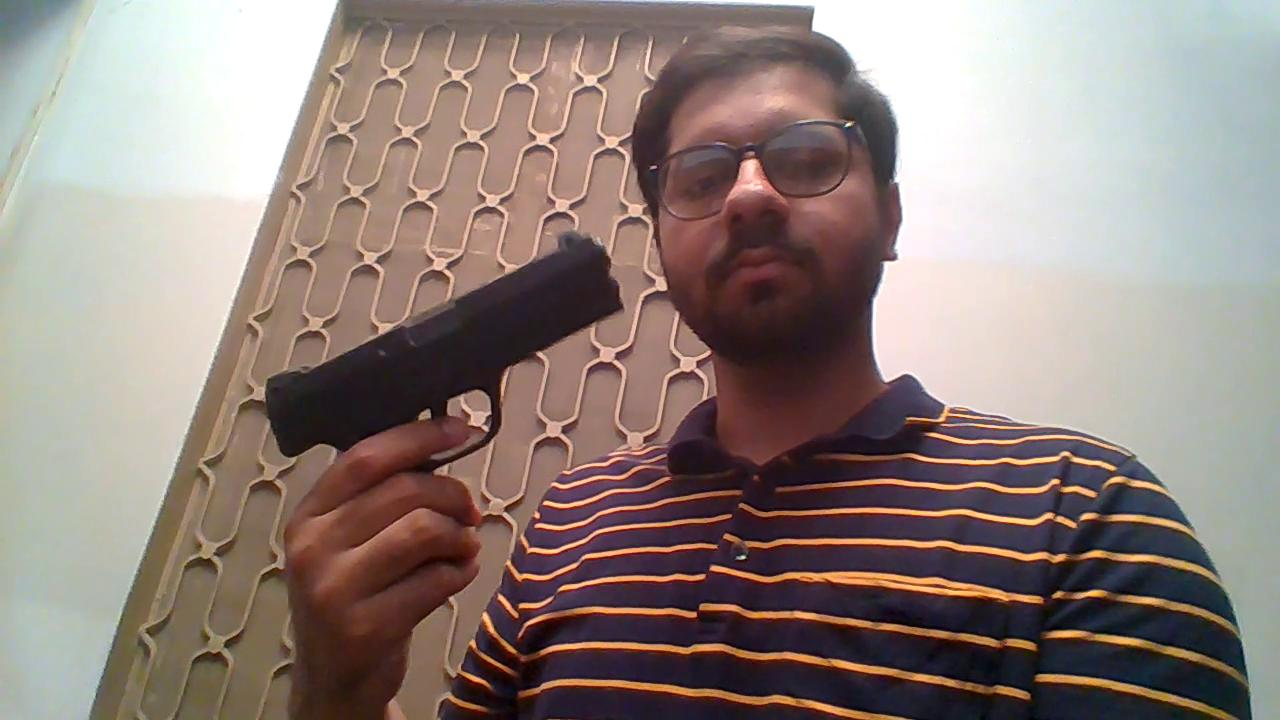criminal: (260, 23, 1253, 720)
weapon: (261, 226, 626, 475)
